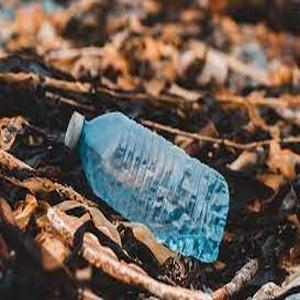Plastic: (64, 109, 230, 266)
